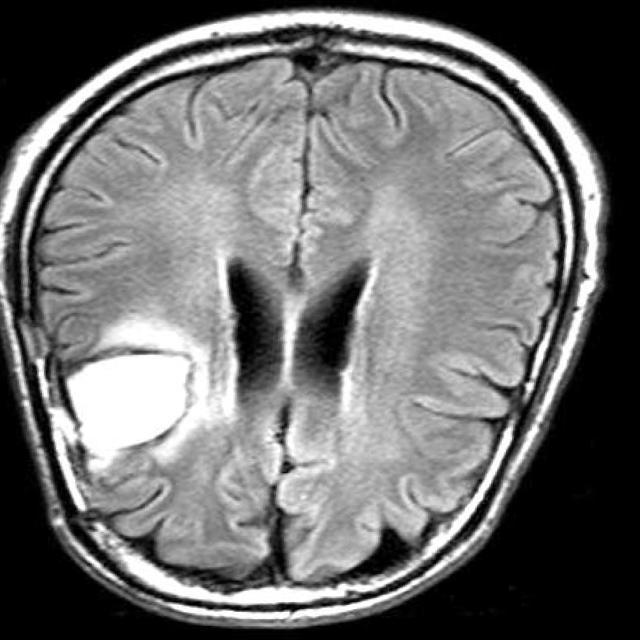Tumor: (69, 355, 198, 452)
